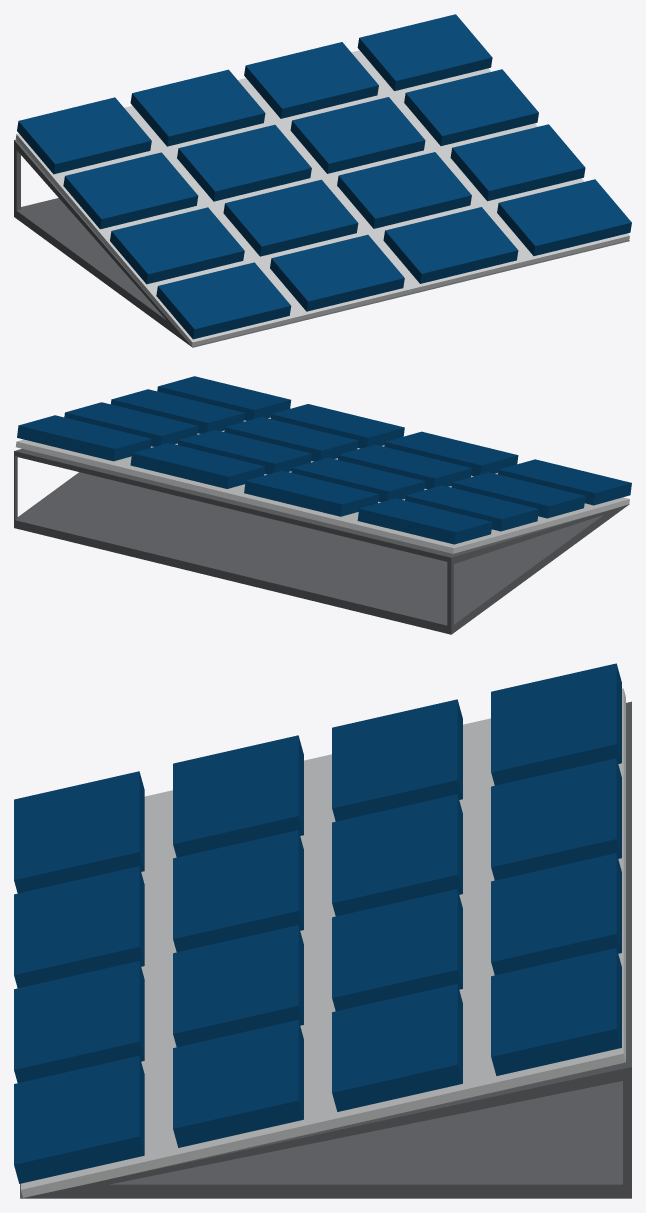
The model's file is solar-panel-4x4-small.glb.
3 views of the same model, one above another, from view 1: azimuth 30°, elevation 25°; view 2: azimuth 150°, elevation 25°; view 3: azimuth 270°, elevation 25° (orthographic). The views are drawn at different scales.
Visible parts, largest first — view 1: Mesh_Mesh_head_geo.001_lambert2SG.001; view 2: Mesh_Mesh_head_geo.001_lambert2SG.001; view 3: Mesh_Mesh_head_geo.001_lambert2SG.001.
Boxes of the visible parts, x1,y1,x2,y2 form: Mesh_Mesh_head_geo.001_lambert2SG.001: (14, 14, 631, 347); Mesh_Mesh_head_geo.001_lambert2SG.001: (14, 376, 631, 634); Mesh_Mesh_head_geo.001_lambert2SG.001: (14, 663, 631, 1198).
Size of the model in its own units: 119 by 25.81 by 85.05.
